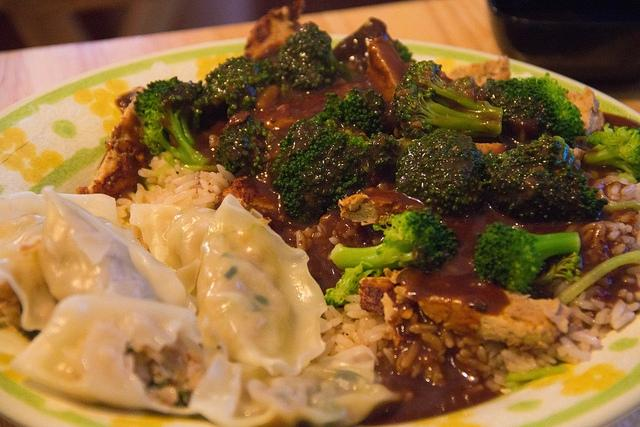broccoli: (270, 111, 385, 225), (480, 133, 609, 219), (392, 60, 503, 140), (474, 72, 586, 149), (133, 75, 219, 173), (330, 208, 459, 271), (395, 128, 487, 216), (474, 221, 580, 294), (274, 22, 365, 90), (204, 56, 286, 117), (318, 86, 390, 139), (215, 115, 268, 180), (584, 123, 640, 180), (324, 261, 375, 309), (452, 76, 480, 94)
